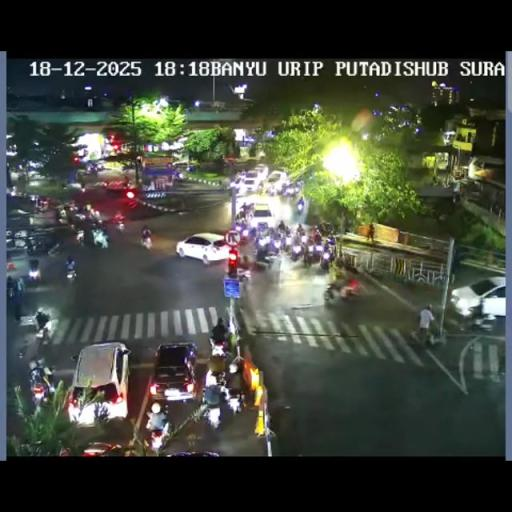Car: (68, 342, 130, 424), (148, 342, 198, 404), (449, 276, 505, 320), (174, 232, 231, 264), (232, 167, 266, 195), (244, 202, 276, 230), (264, 169, 294, 194), (81, 441, 125, 455), (105, 178, 133, 194)
Motorcycle: (242, 219, 334, 266), (206, 341, 230, 381), (408, 321, 442, 348), (146, 420, 168, 453), (30, 373, 48, 407), (469, 310, 496, 332), (9, 277, 23, 319), (205, 400, 222, 430), (34, 312, 52, 340), (226, 389, 243, 415), (254, 244, 274, 266), (339, 282, 359, 302), (211, 318, 227, 343), (322, 282, 340, 304), (322, 240, 336, 267), (234, 264, 252, 285), (232, 219, 250, 240), (26, 237, 46, 255), (92, 228, 109, 248), (27, 264, 42, 286), (46, 239, 64, 257), (342, 257, 360, 274), (316, 220, 334, 236), (290, 242, 304, 262), (306, 246, 320, 266), (269, 229, 282, 248), (140, 232, 153, 250), (65, 265, 77, 283), (281, 234, 293, 252), (88, 207, 102, 222), (34, 200, 49, 213), (113, 218, 126, 232), (75, 228, 85, 245), (248, 225, 258, 241), (58, 206, 68, 222), (366, 222, 374, 242), (66, 202, 80, 213), (83, 164, 98, 174), (258, 223, 268, 237), (73, 212, 86, 222), (28, 194, 40, 204), (452, 190, 461, 203), (296, 223, 305, 236), (278, 220, 286, 233), (283, 226, 291, 238), (296, 178, 304, 190), (79, 184, 86, 194), (176, 171, 183, 180), (10, 187, 16, 197), (301, 234, 307, 243)
